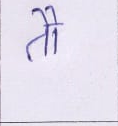o_matra: (19, 5, 63, 55)
